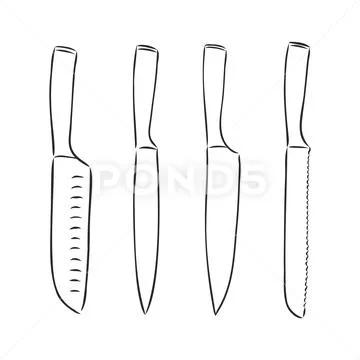Knife: (48, 45, 91, 313), (201, 43, 240, 315), (131, 43, 160, 314), (282, 40, 310, 317)
